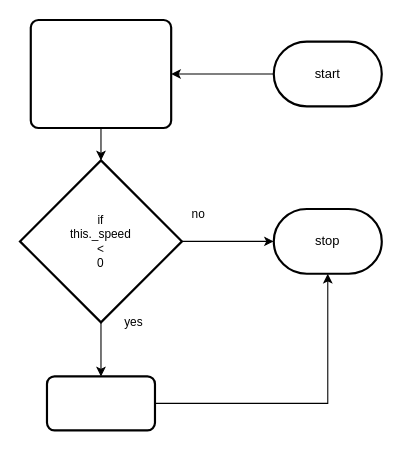
Some shapes in this 401 by 449 pixel diagram are drawn without their labels. Here are the shapes that lost their labels. From the top down, the centre of each, then its label:
At (x=100, y=73): "this._speed = this._speed - (brakePower * brakeTime)".
At (x=100, y=403): "this._speed = 0".
